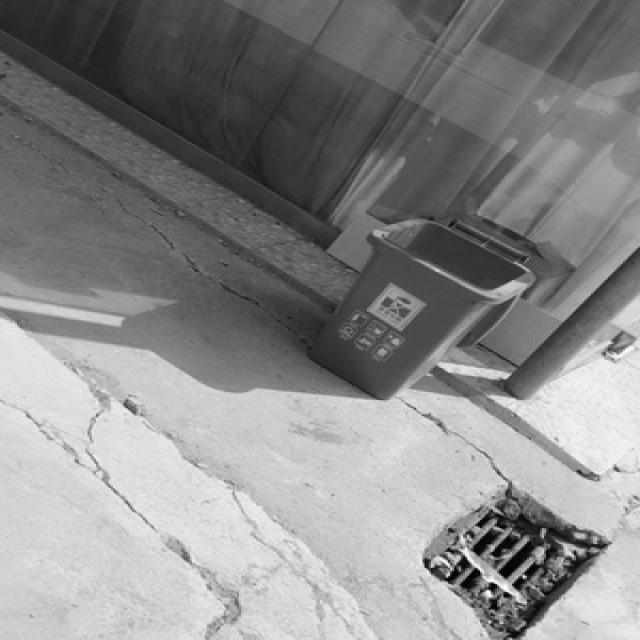ash bin: (305, 213, 531, 398)
